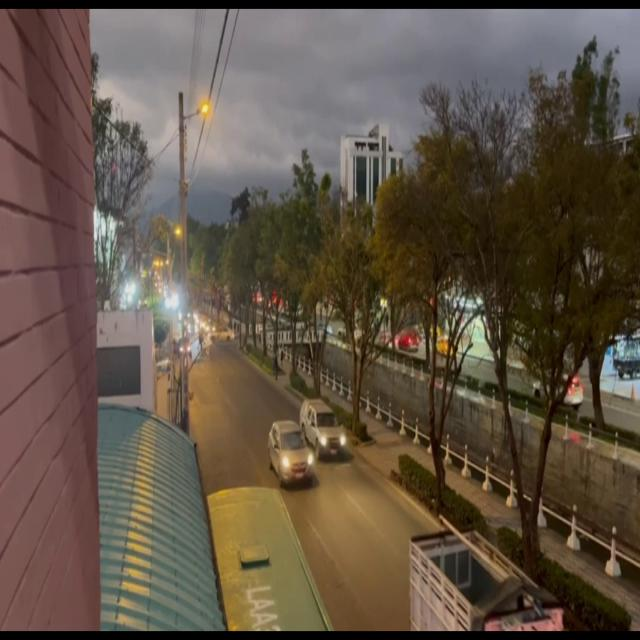CMT: (307, 400, 347, 459)
SUV: (271, 423, 305, 484)
